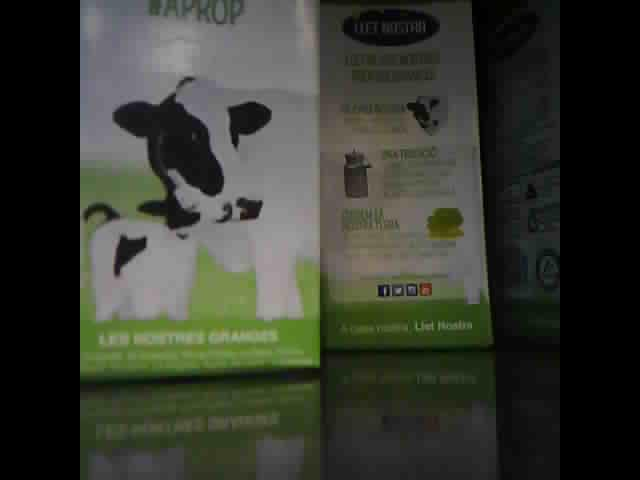leche: (82, 5, 319, 382), (321, 5, 485, 349), (496, 6, 558, 339)
